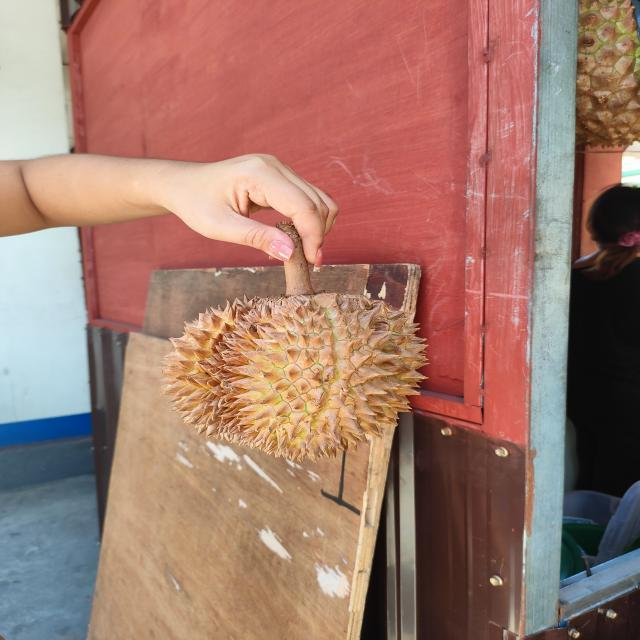mature: (158, 289, 431, 465)
